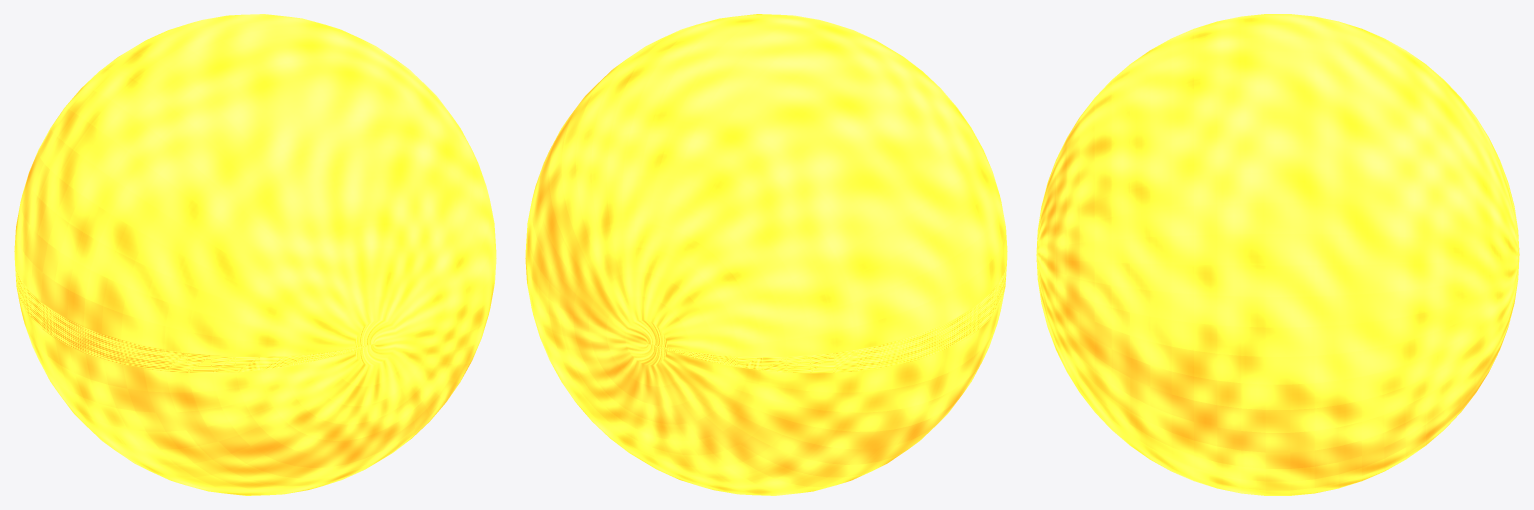
Rendered from powerquest_sun.glb.
The picture shows the model from 3 angles, left to right: view 1: azimuth 30°, elevation 25°; view 2: azimuth 150°, elevation 25°; view 3: azimuth 270°, elevation 25°; orthographic projection.
Parts seen in each view (by area): view 1: world; view 2: world; view 3: world.
Part boxes in pixels (x1,y1,x2,y2): world: [14, 14, 496, 495]; world: [525, 14, 1007, 495]; world: [1036, 14, 1519, 495].
Size of the model in its own units: 2 by 2 by 2.
Materials: 1 (1 with a texture image).
